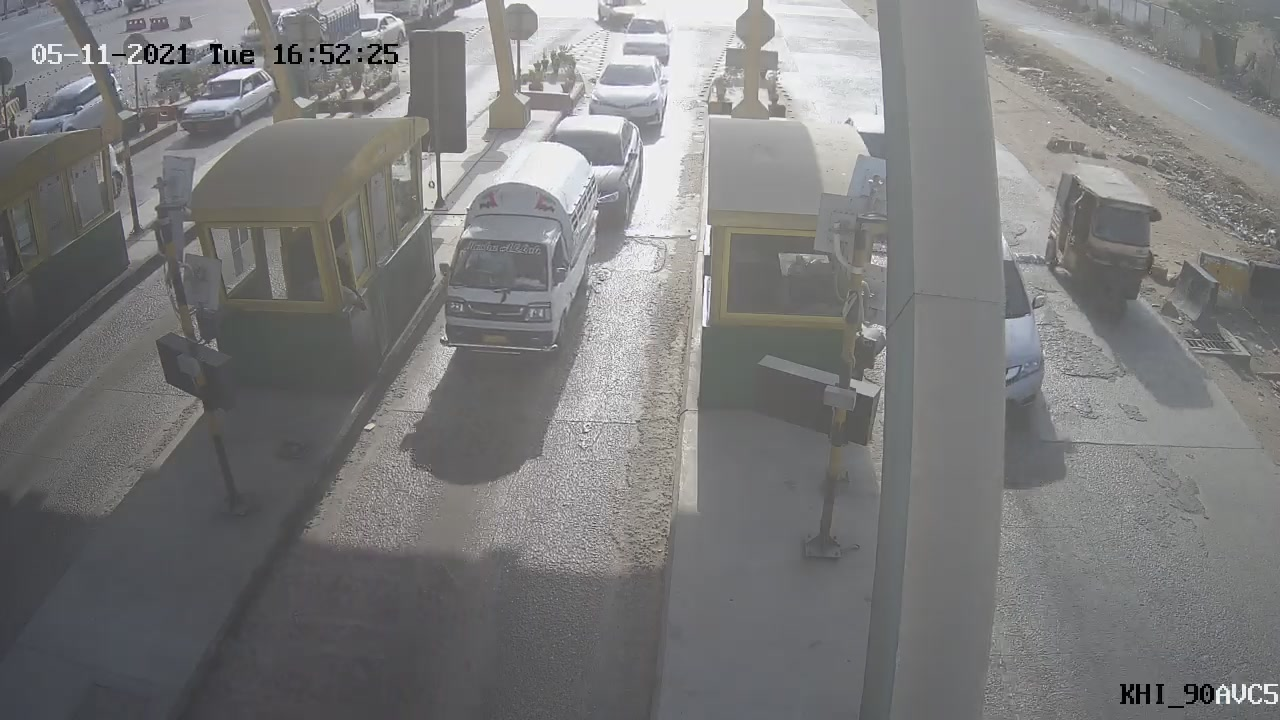F1: (434, 141, 604, 372), (573, 42, 681, 140)
